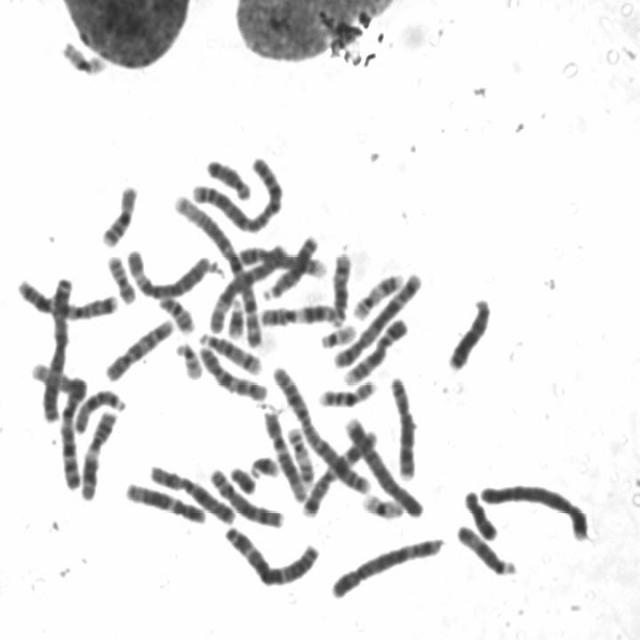A1: (168, 186, 268, 349), (28, 355, 88, 493)
A2: (267, 357, 376, 496), (186, 148, 286, 235)
A3: (218, 518, 322, 588), (36, 268, 76, 424)
B4: (338, 408, 426, 520), (476, 475, 594, 542)
B5: (329, 264, 425, 370), (325, 528, 448, 600)
C10: (99, 310, 177, 383), (193, 337, 269, 402)
C11: (75, 402, 120, 502), (254, 295, 342, 328)
C12: (257, 402, 309, 502), (119, 474, 210, 526)
C6: (204, 238, 306, 335), (121, 240, 219, 301)
C7: (298, 419, 383, 518), (12, 270, 122, 322)
C8: (205, 460, 287, 530), (384, 367, 420, 482)
C9: (338, 310, 409, 386), (233, 238, 327, 279)
D13: (258, 226, 321, 302), (443, 289, 494, 373)
D14: (193, 324, 264, 376), (326, 243, 354, 327)
D15: (451, 516, 520, 578), (69, 381, 128, 435)
E16: (95, 177, 141, 249), (314, 371, 380, 409)
E17: (348, 264, 406, 322), (283, 419, 317, 488)
E18: (200, 151, 254, 202), (459, 482, 501, 541)
F19: (56, 32, 109, 77), (357, 486, 407, 520)
F20: (102, 247, 140, 305), (153, 288, 198, 335)
G21: (245, 447, 282, 480), (224, 290, 246, 340)
G22: (171, 335, 205, 381), (316, 316, 358, 350)
X: (145, 456, 238, 525)
Y: (226, 459, 260, 495)
